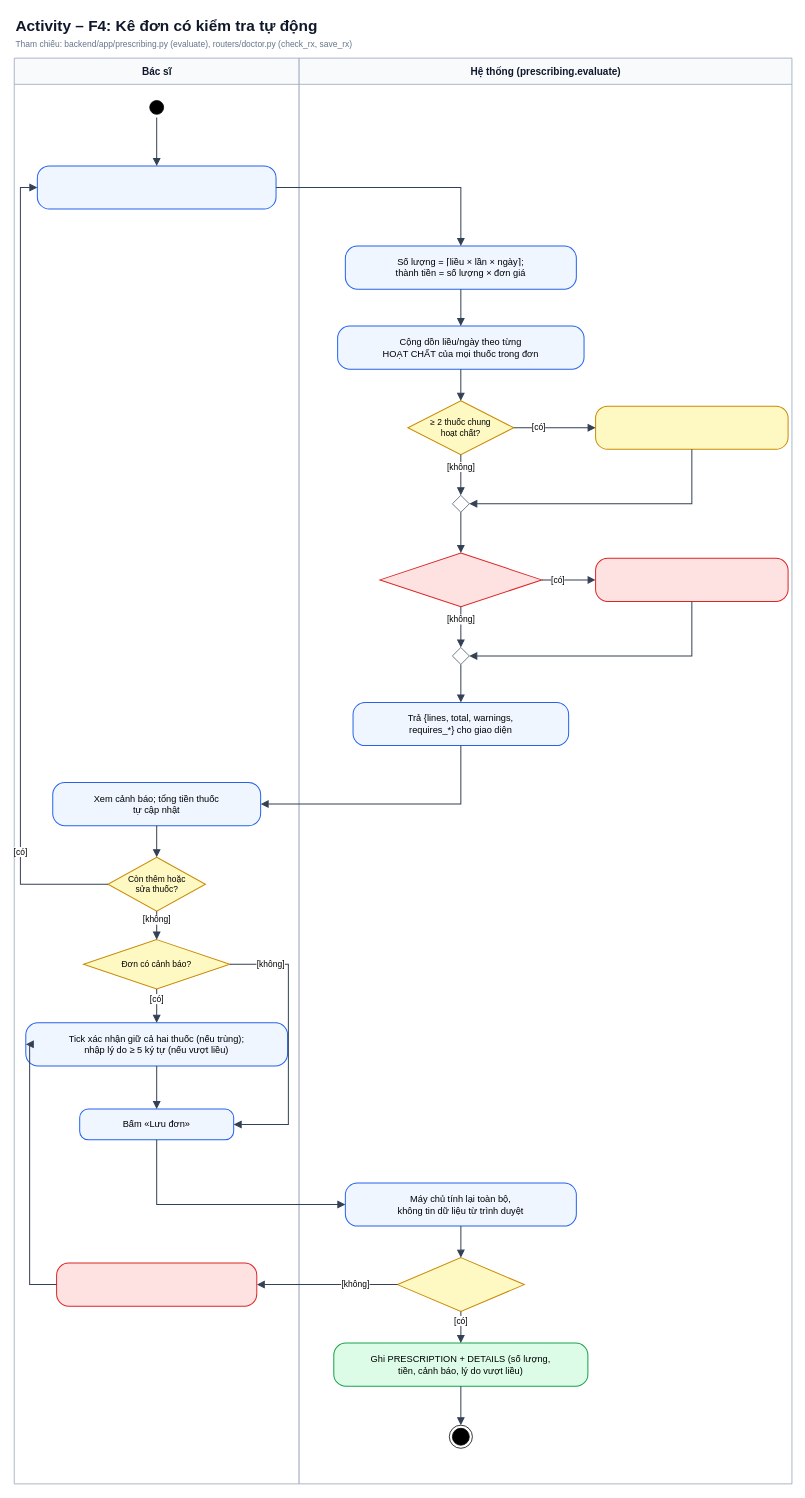
This 805x1498 diagram has some shape labels left out. The shapes that lost their labels are listed below. From the top down, each one's centre as x and y in pixels, then its label:
At pixel 156 187: "Thêm thuốc: chọn thuốc, liều mỗi lần, số lần/ngày, số ngày, thời điểm dùng".
At pixel 691 427: "Gắn cảnh báo vàng DUPLICATE: phải xác nhận giữ cả hai".
At pixel 460 579: "Tổng liều/ngày của một hoạt chất > mức tối đa?".
At pixel 691 579: "Gắn cảnh báo đỏ OVERDOSE: phải nhập lý do".
At pixel 156 1284: "Báo lỗi 422: cần xác nhận hoặc cần nhập lý do".
At pixel 460 1284: "Đủ xác nhận và lý do khi có cảnh báo?".
